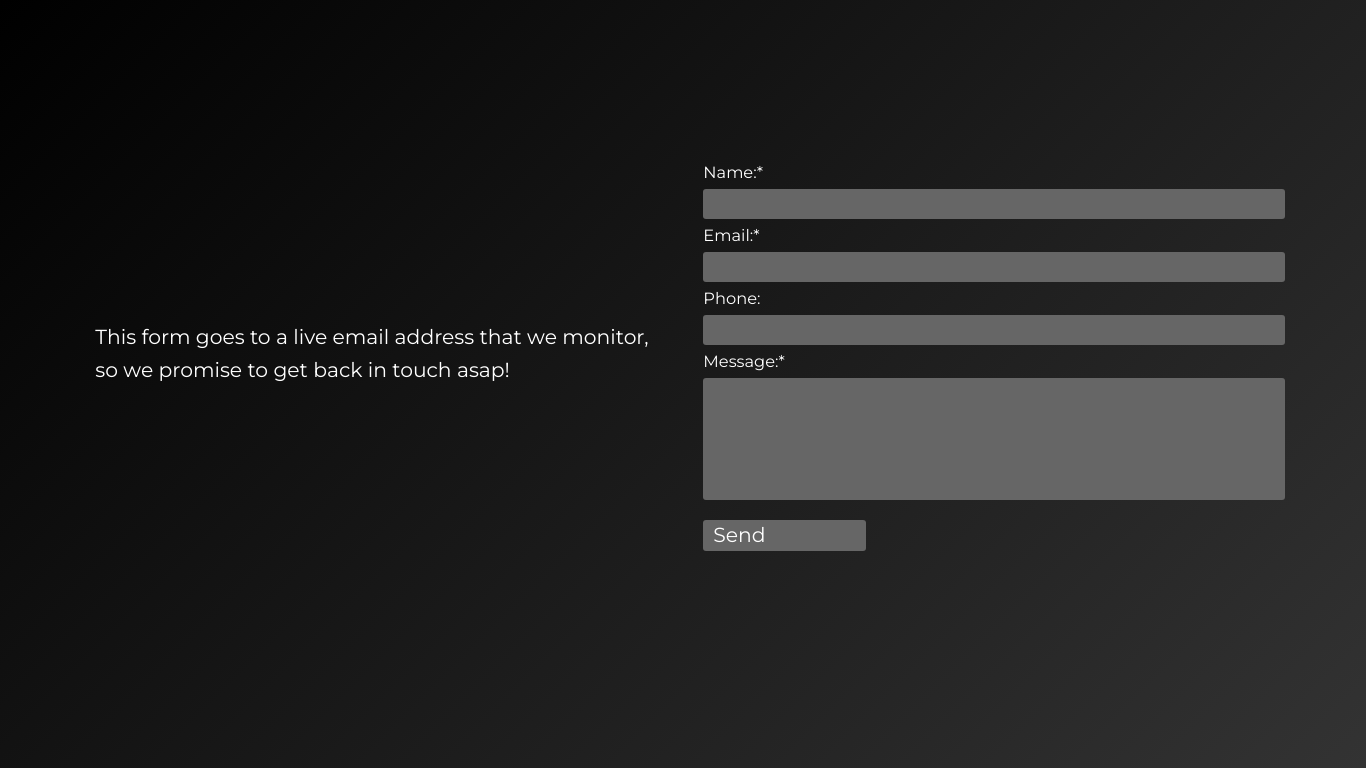
Test: EmailForm › a failed submit surfaces a visible error and does not clear the form
The image size is (1366, 768).
Step 1. Type "Jane Prospect" into the field labelled "Name:*" → (994, 204), box [703, 189, 1285, 219]
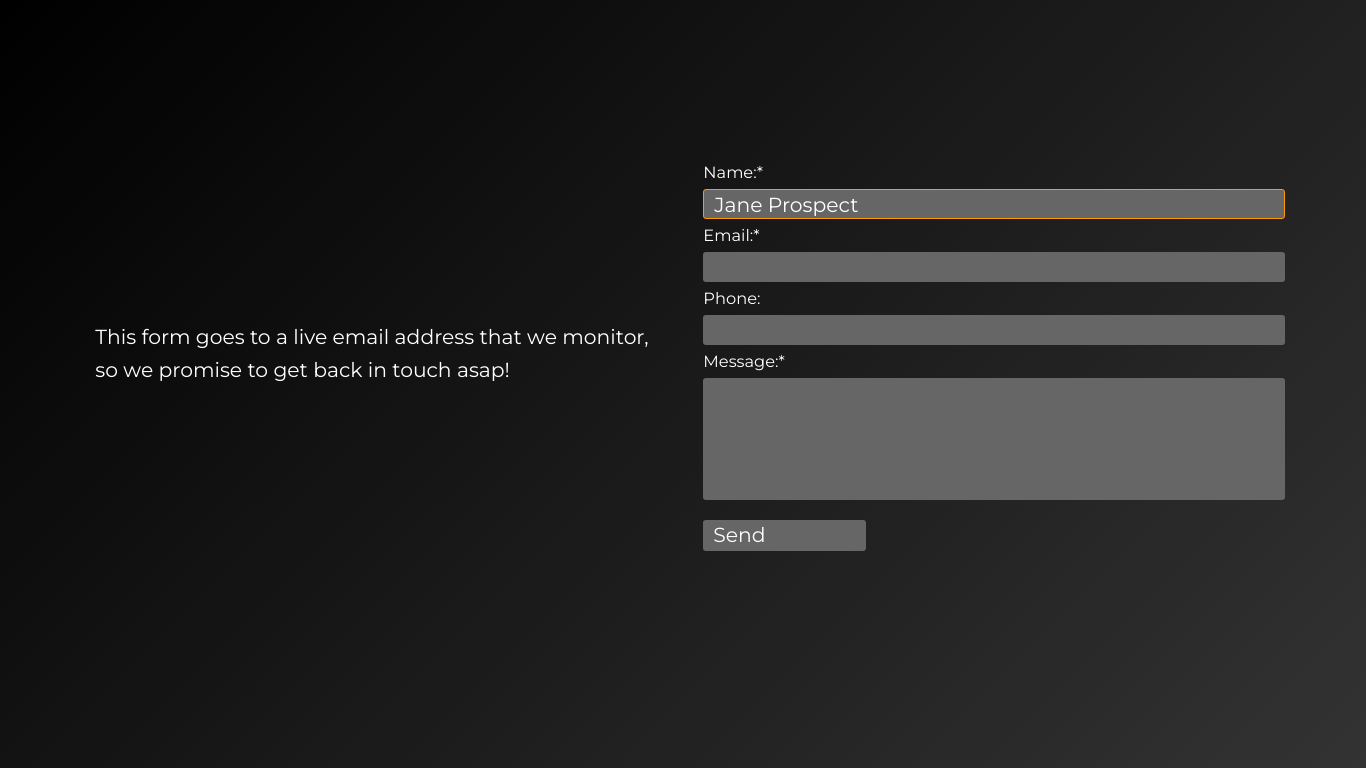
Step 2. Type "jane@example.com" into the field labelled "Email:*" → (994, 267), box [703, 252, 1285, 282]
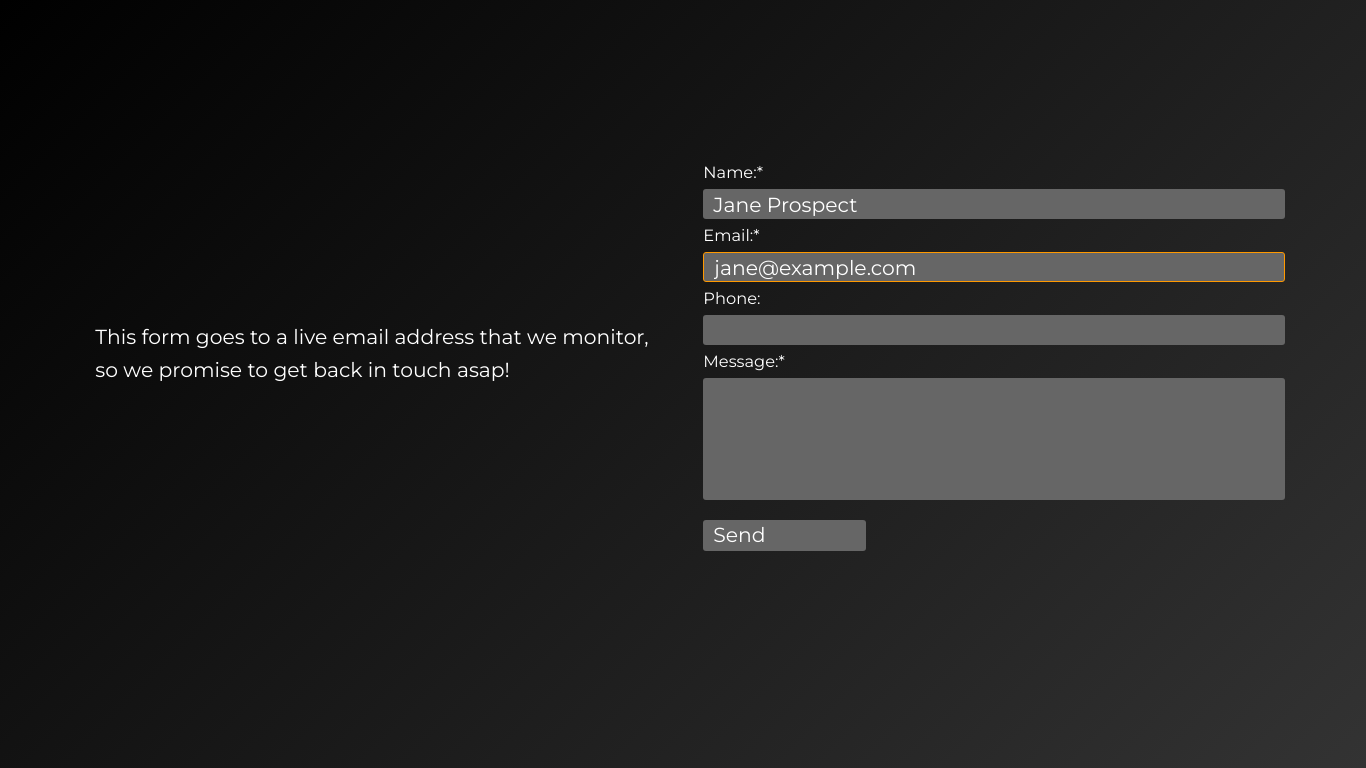
Step 3. Type "Please call me back about a lighting job." into the text box labelled "Message:*" → (994, 439), box [703, 378, 1285, 500]
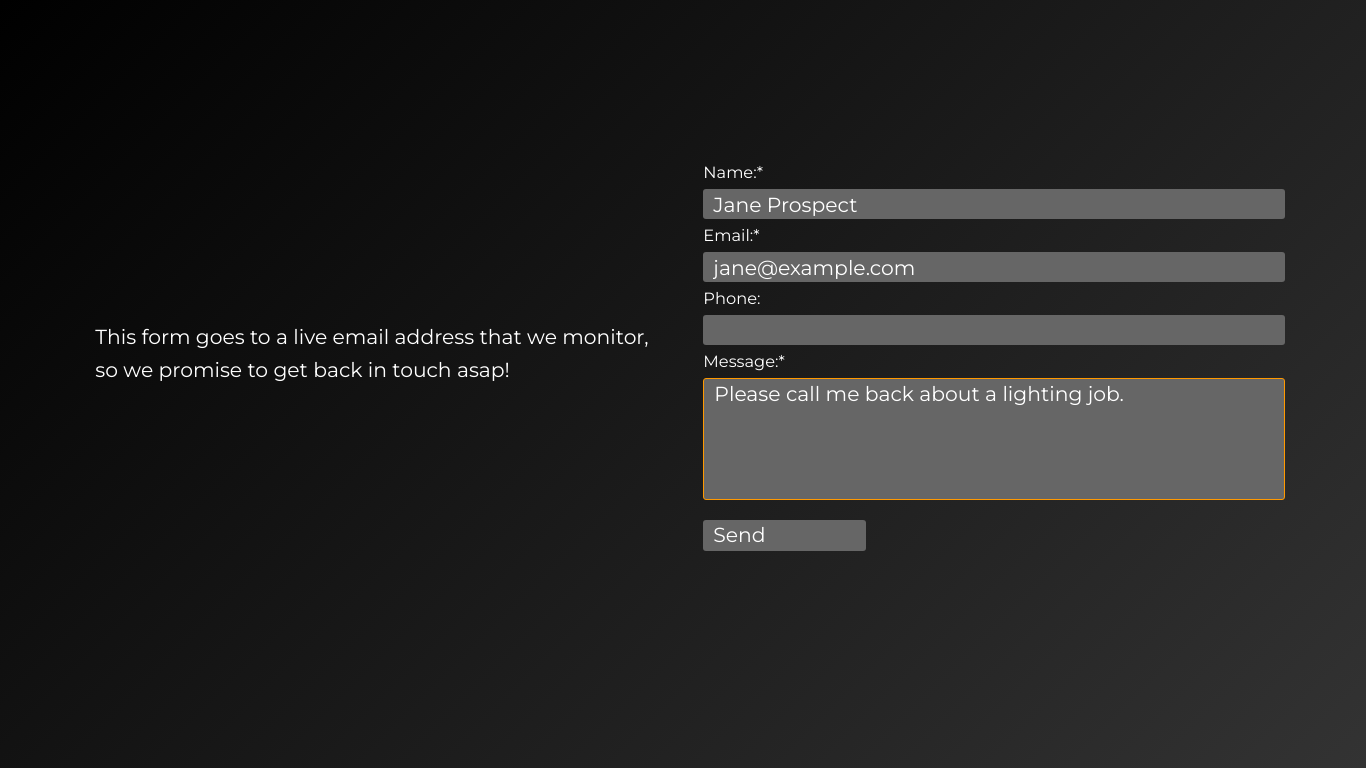
Step 4. Click the button "Send" → (785, 535), box [703, 520, 866, 551]
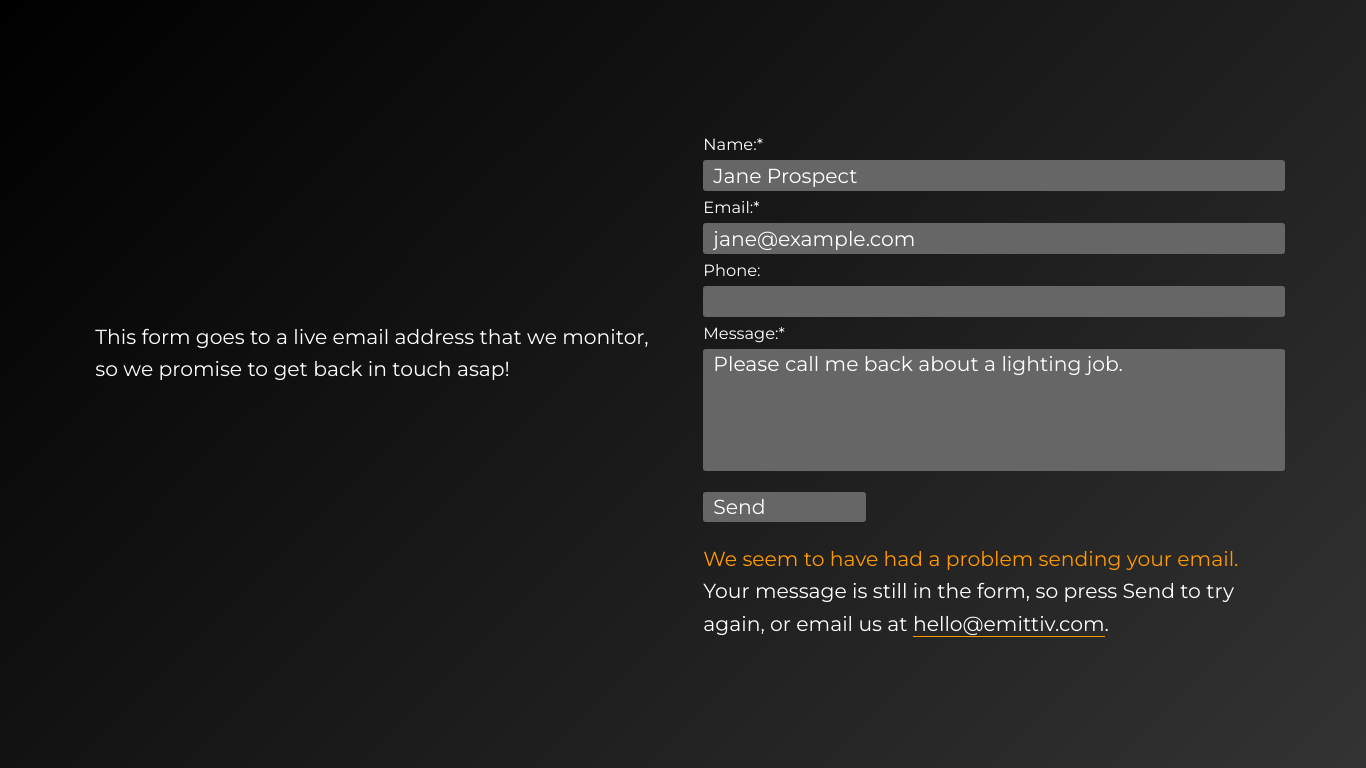
Result: the text "We seem to have had a problem sending your email." is shown at [703, 546, 1238, 571]
